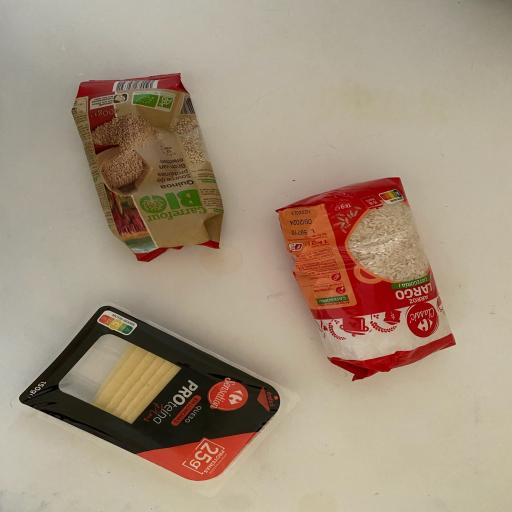cheese: (21, 303, 282, 487)
quinoa: (71, 72, 224, 262)
rice: (271, 175, 459, 383)
